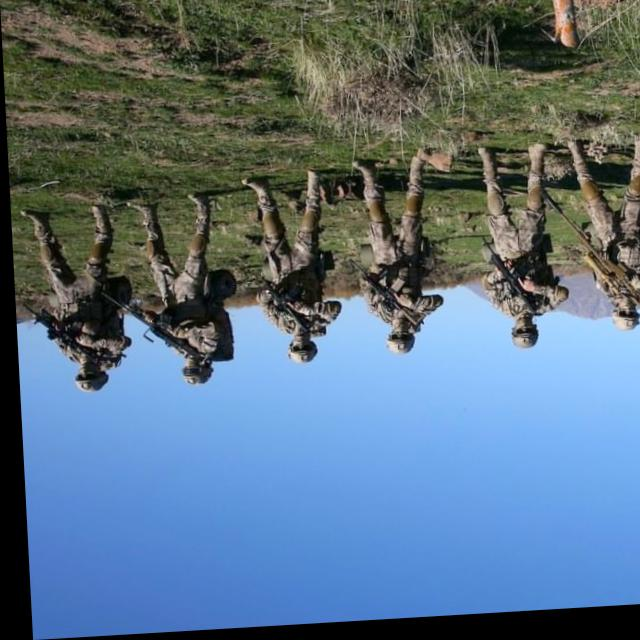poh_personel: (239, 172, 342, 372), (19, 206, 127, 396), (126, 197, 231, 390), (473, 150, 566, 358), (350, 159, 442, 364), (564, 142, 640, 341)
